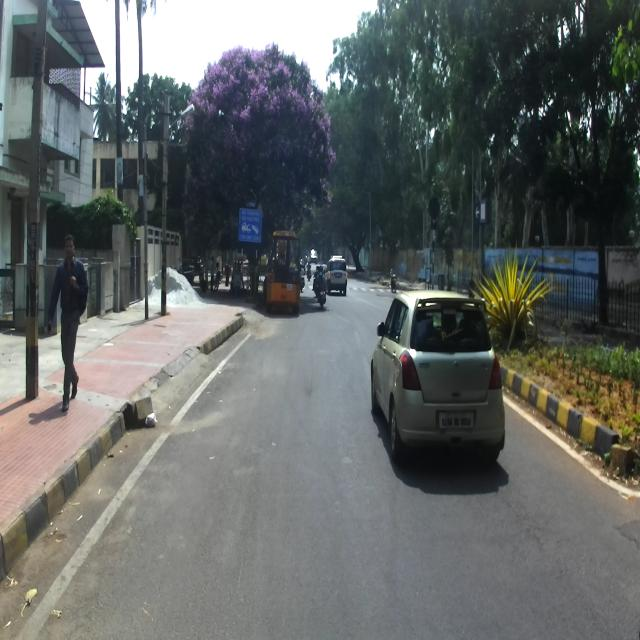car ahead at: (370, 289, 506, 482)
electric pole ahead at: (22, 0, 44, 403), (151, 86, 179, 322)
person ahead at: (52, 234, 88, 411)
truck ahead at: (267, 224, 302, 324)
